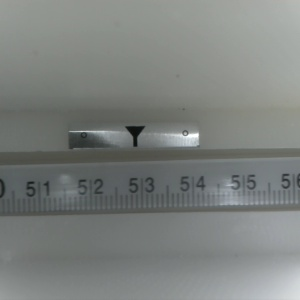0: (0, 178, 5, 199)
1: (42, 181, 50, 196)
2: (93, 178, 104, 194)
3: (144, 177, 155, 192)
4: (195, 176, 206, 191)
5: (127, 177, 138, 193), (77, 179, 88, 194), (25, 181, 36, 196), (246, 174, 256, 190), (280, 173, 290, 189), (180, 176, 189, 191), (230, 175, 239, 190)
6: (295, 173, 300, 189)
finger: (123, 126, 145, 149)
